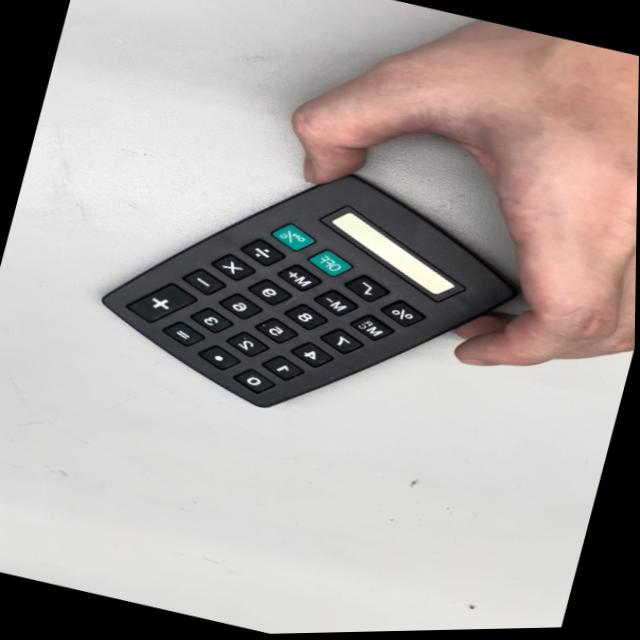calculator: (83, 118, 521, 461)
